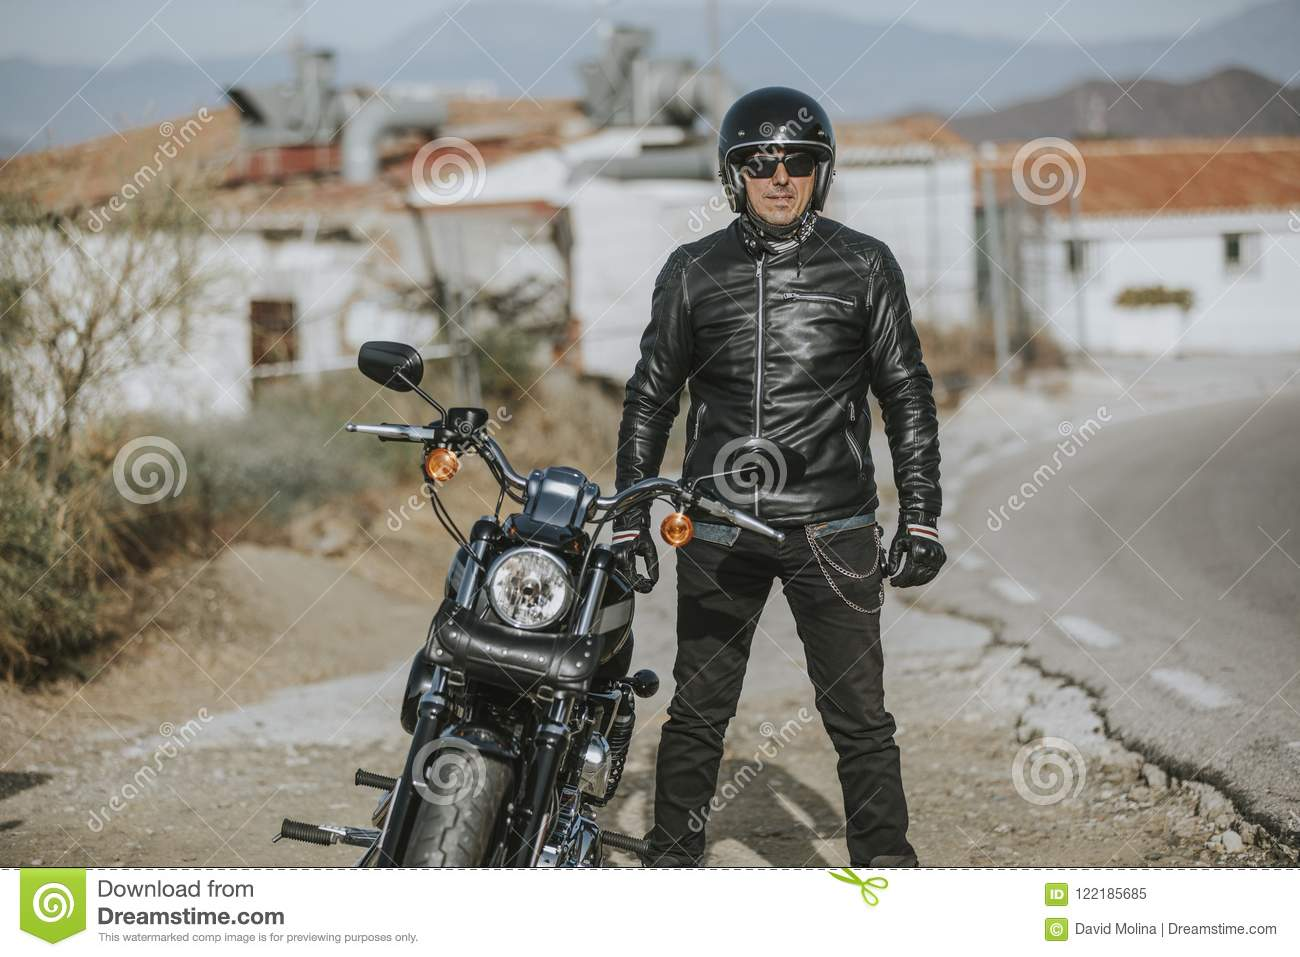helmet: (711, 80, 848, 224)
